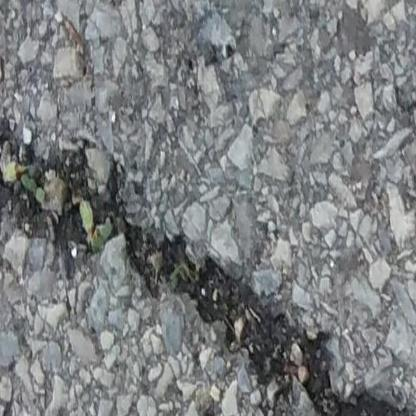Cracks: (0, 117, 413, 416)
